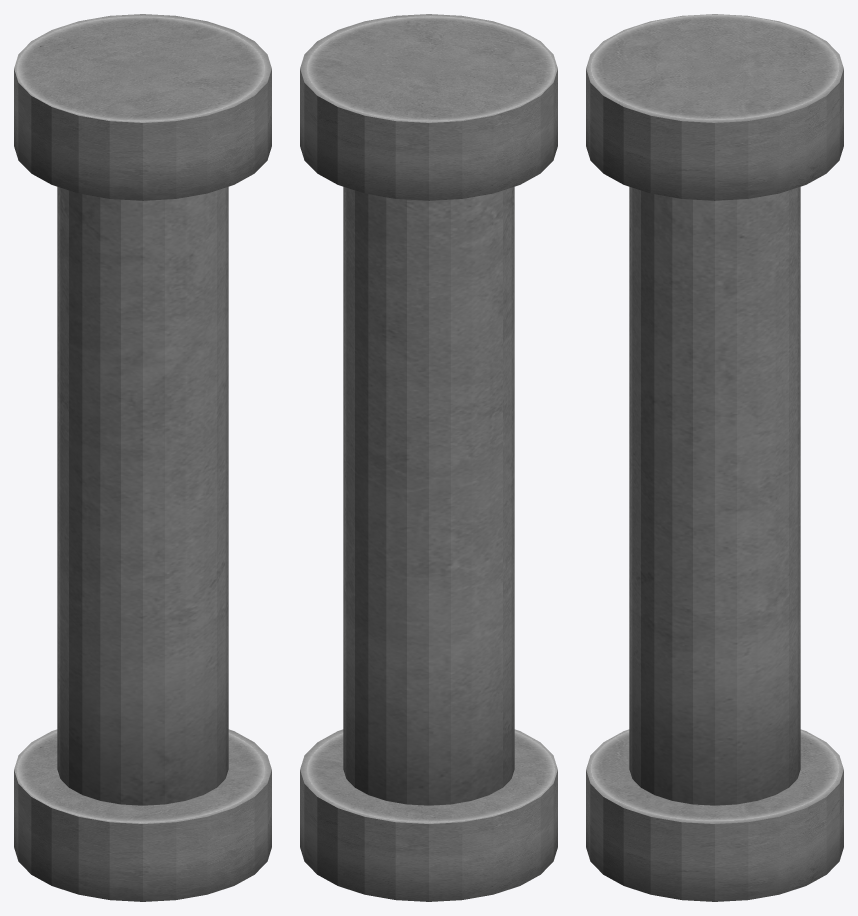
Rendered from Support_bot.fbx.
3 renders of one model, left to right at view 1: azimuth 30°, elevation 25°; view 2: azimuth 150°, elevation 25°; view 3: azimuth 270°, elevation 25°, orthographic.
Parts seen in each view (by area): view 1: Empty_Mesh; view 2: Empty_Mesh; view 3: Empty_Mesh.
Part boxes in pixels (<box>): Empty_Mesh: <box>14,14,271,901</box>; Empty_Mesh: <box>300,14,557,901</box>; Empty_Mesh: <box>586,14,843,901</box>.
Bounding box in the file's own units: 300 × 1000 × 300.
